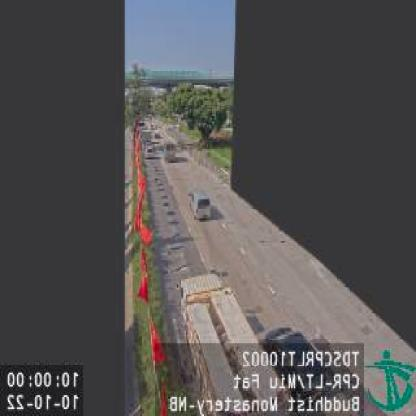Car: (256, 323, 340, 400), (188, 188, 212, 218)
